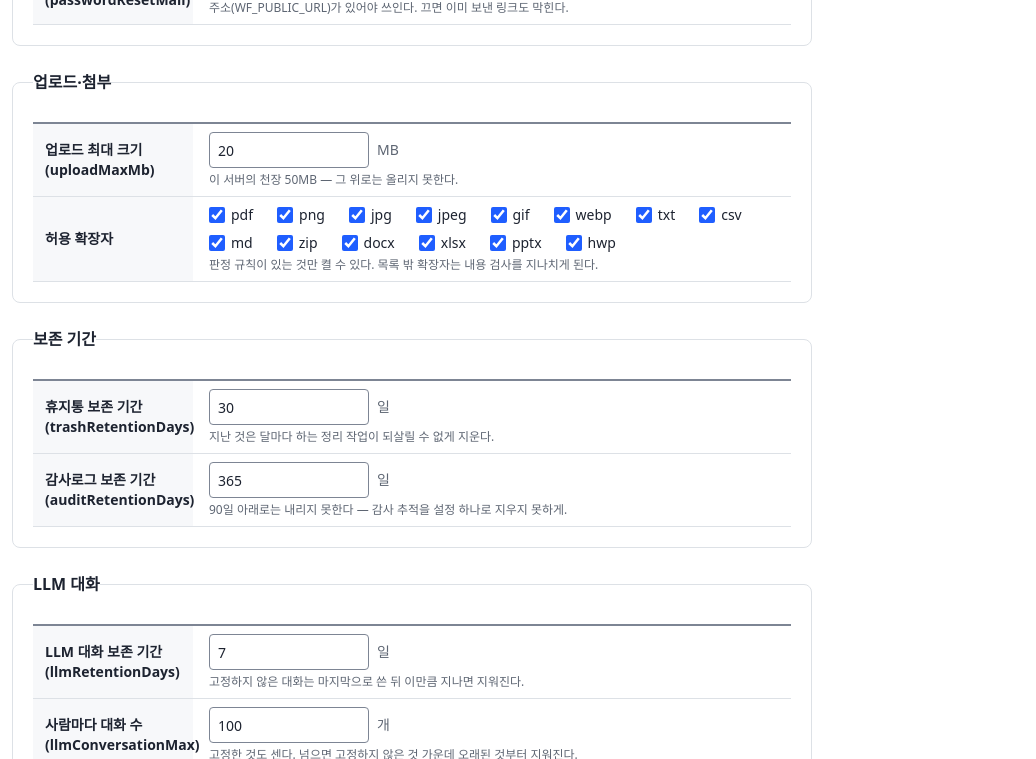
Test: AdminPolicyPage › **바꾼 값만 보낸다** — 저장하면 다음 요청부터 먹는다고 알리고 다시 읽는다
(page scrolled)
Replace the text in the number field labelled "휴지통 보존 기간 (trashRetentionDays)" with "15" at (289, 407), box [209,389,369,425]
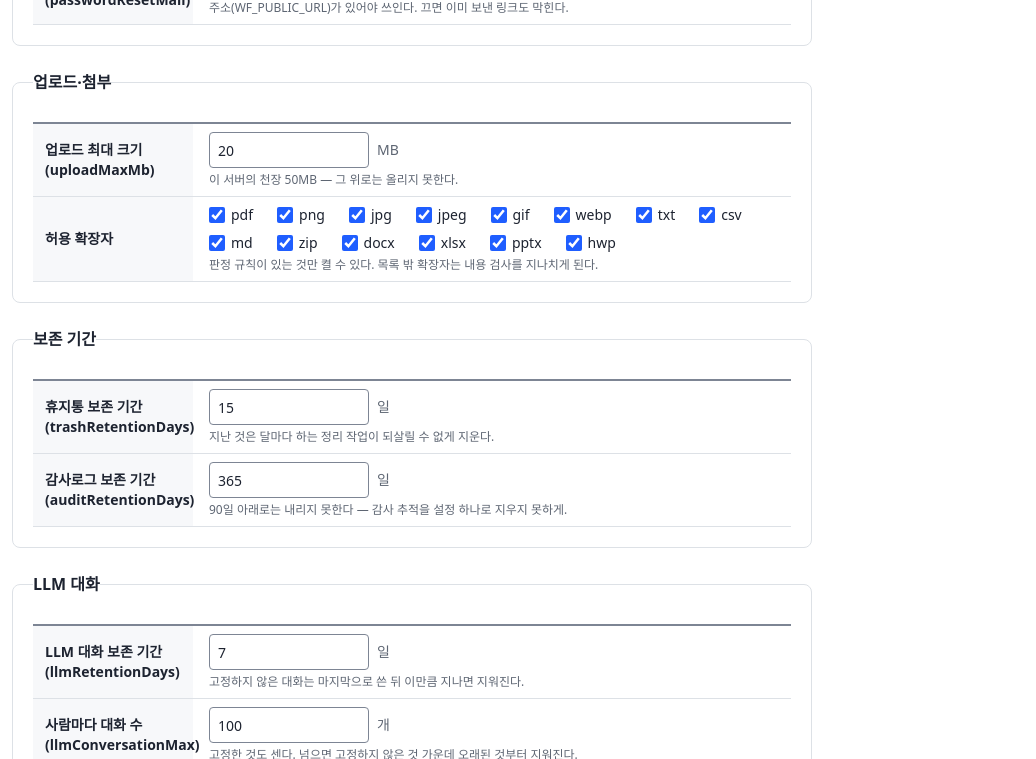
Click the checkbox labelled "hwp".
click(574, 243)  # box [566,235,582,251]
(page scrolled)
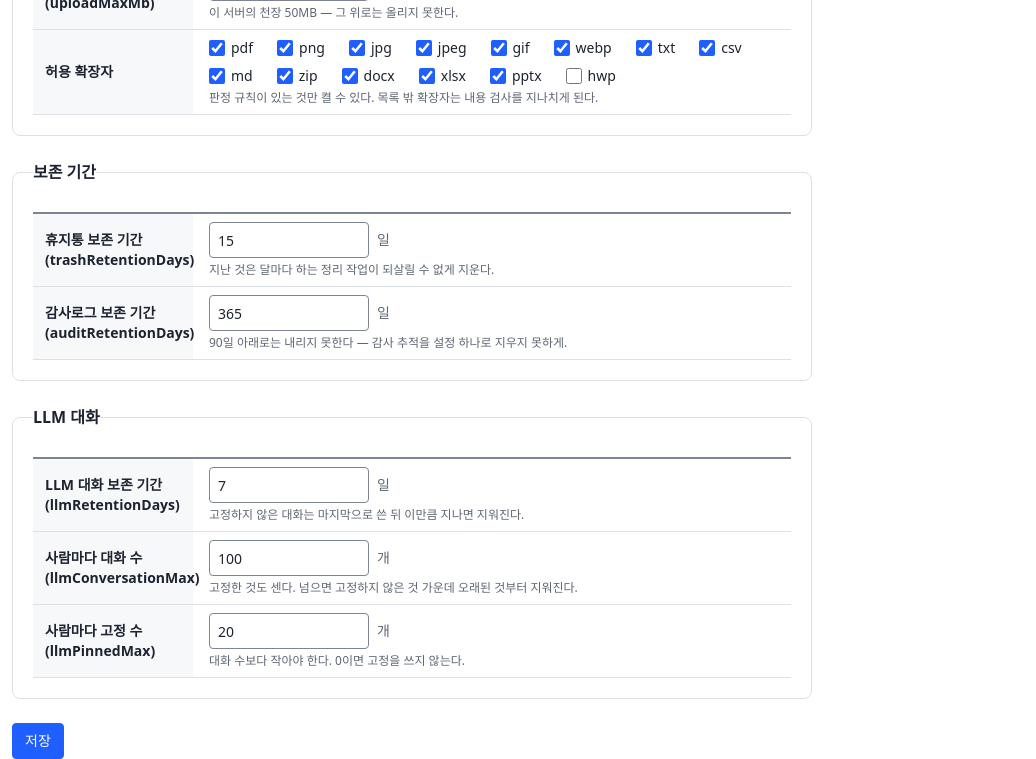
Click the button "저장".
click(38, 741)  # box [12,723,64,758]
(page scrolled)
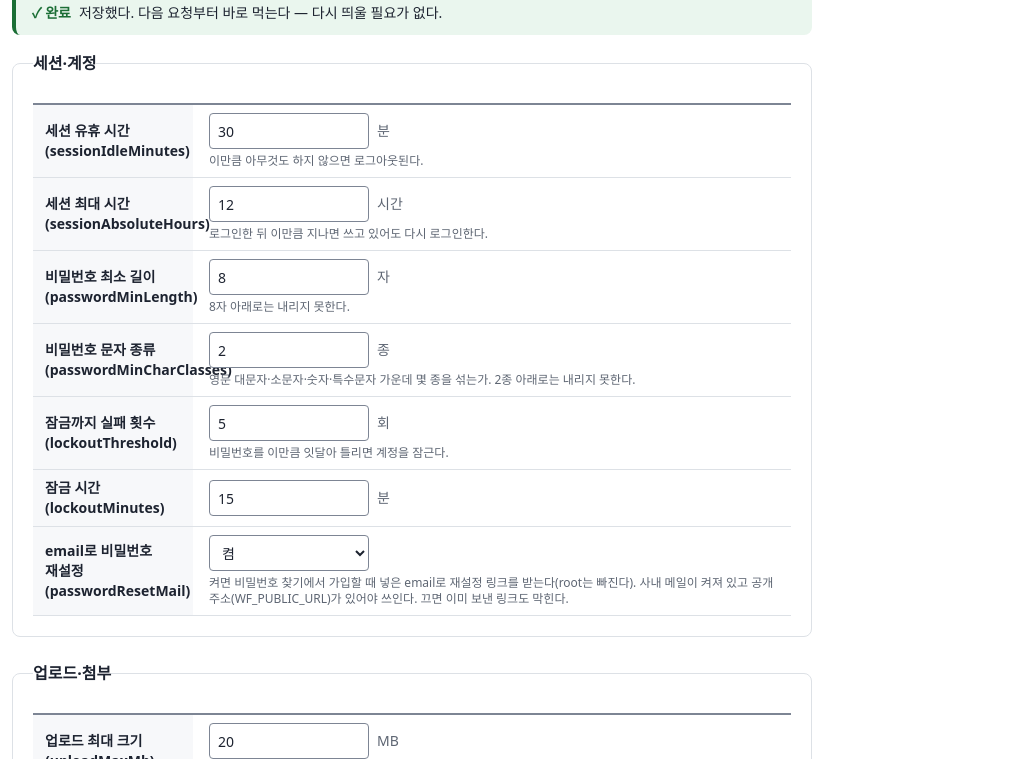
Result: the message shows "바로 먹는다" at [79,3,442,22]
